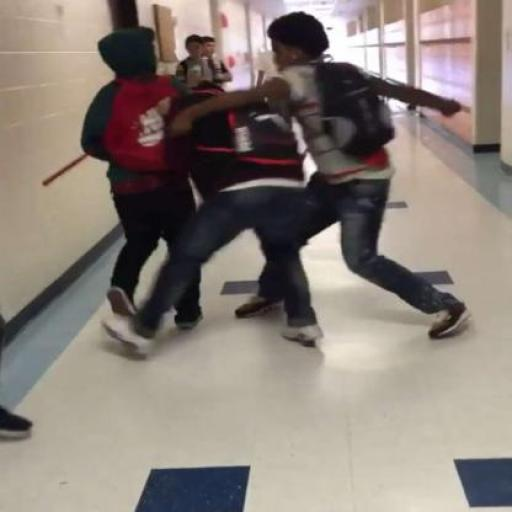Fighting: (82, 15, 468, 349)
